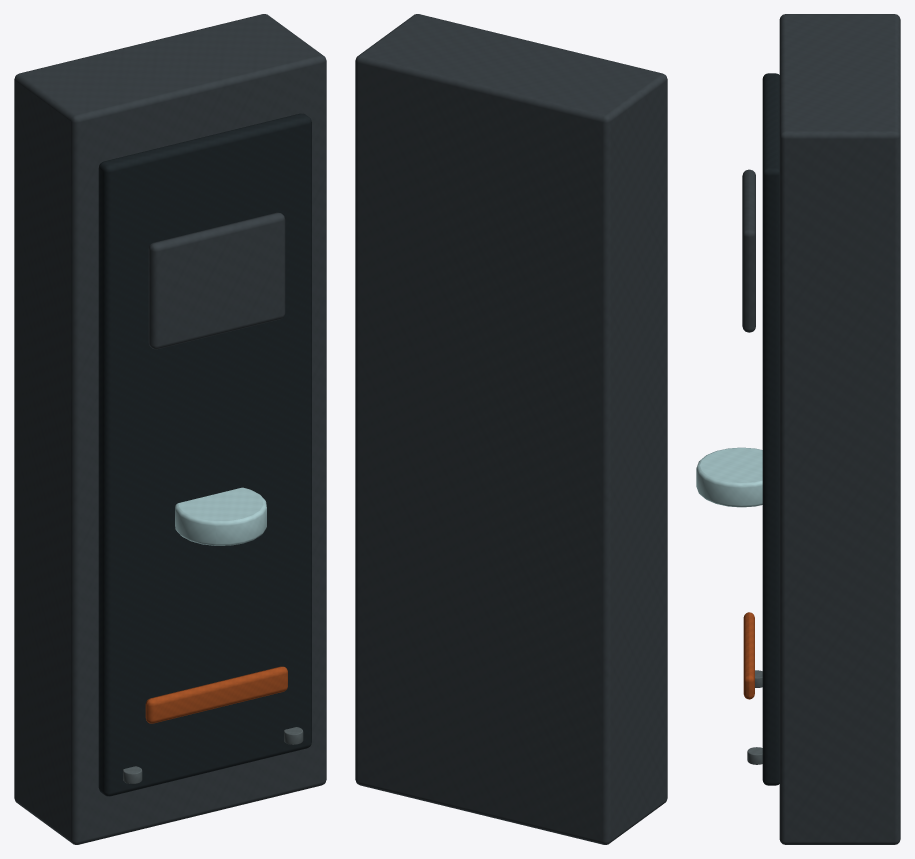
Rendered from ElevatorCallPanel.fbx.
3 renders of one model, left to right at view 1: azimuth 30°, elevation 25°; view 2: azimuth 150°, elevation 25°; view 3: azimuth 270°, elevation 25°, orthographic. The views are drawn at different scales.
Parts seen in each view (by area): view 1: ElevatorCallPanel_Mesh; view 2: ElevatorCallPanel_Mesh; view 3: ElevatorCallPanel_Mesh.
Boxes of the visible parts, left/top/right/bottom form: ElevatorCallPanel_Mesh: left=14, top=14, right=326, bottom=844; ElevatorCallPanel_Mesh: left=355, top=14, right=667, bottom=844; ElevatorCallPanel_Mesh: left=696, top=14, right=900, bottom=844.
Bounding box in the file's own units: 38 × 104 × 27.
